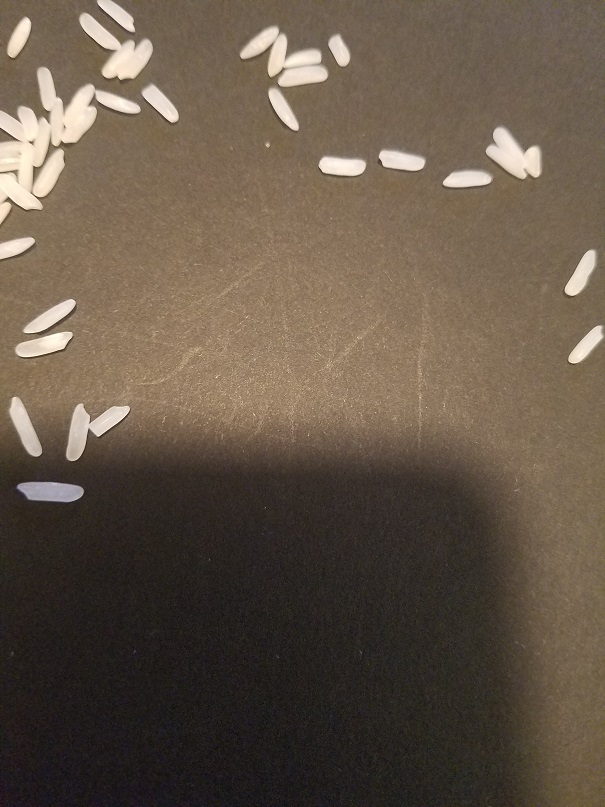egg: (5, 392, 46, 461), (112, 36, 160, 89), (19, 293, 80, 334), (559, 243, 599, 301), (8, 328, 77, 360), (74, 9, 124, 53), (563, 315, 605, 367), (235, 20, 282, 66), (487, 123, 529, 173), (140, 77, 181, 128), (13, 479, 85, 508), (481, 139, 527, 184), (263, 81, 302, 134), (31, 147, 68, 201), (62, 401, 92, 464), (98, 37, 140, 82), (86, 86, 143, 119), (86, 399, 131, 439), (4, 12, 37, 62), (58, 81, 96, 122), (313, 151, 370, 178), (62, 103, 98, 145), (94, 1, 138, 34), (325, 27, 357, 72), (274, 62, 333, 86), (377, 147, 427, 175), (1, 179, 43, 212), (263, 27, 288, 81), (438, 167, 494, 189), (33, 64, 57, 114), (279, 45, 322, 71), (1, 233, 36, 260), (16, 104, 40, 142), (32, 115, 49, 166), (1, 109, 27, 142), (524, 140, 544, 182), (51, 95, 65, 147), (16, 149, 32, 192), (1, 139, 21, 159), (1, 153, 19, 173), (1, 200, 10, 226)
